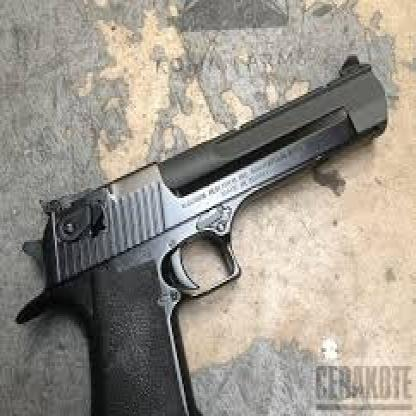Pistol: (2, 54, 413, 404)
